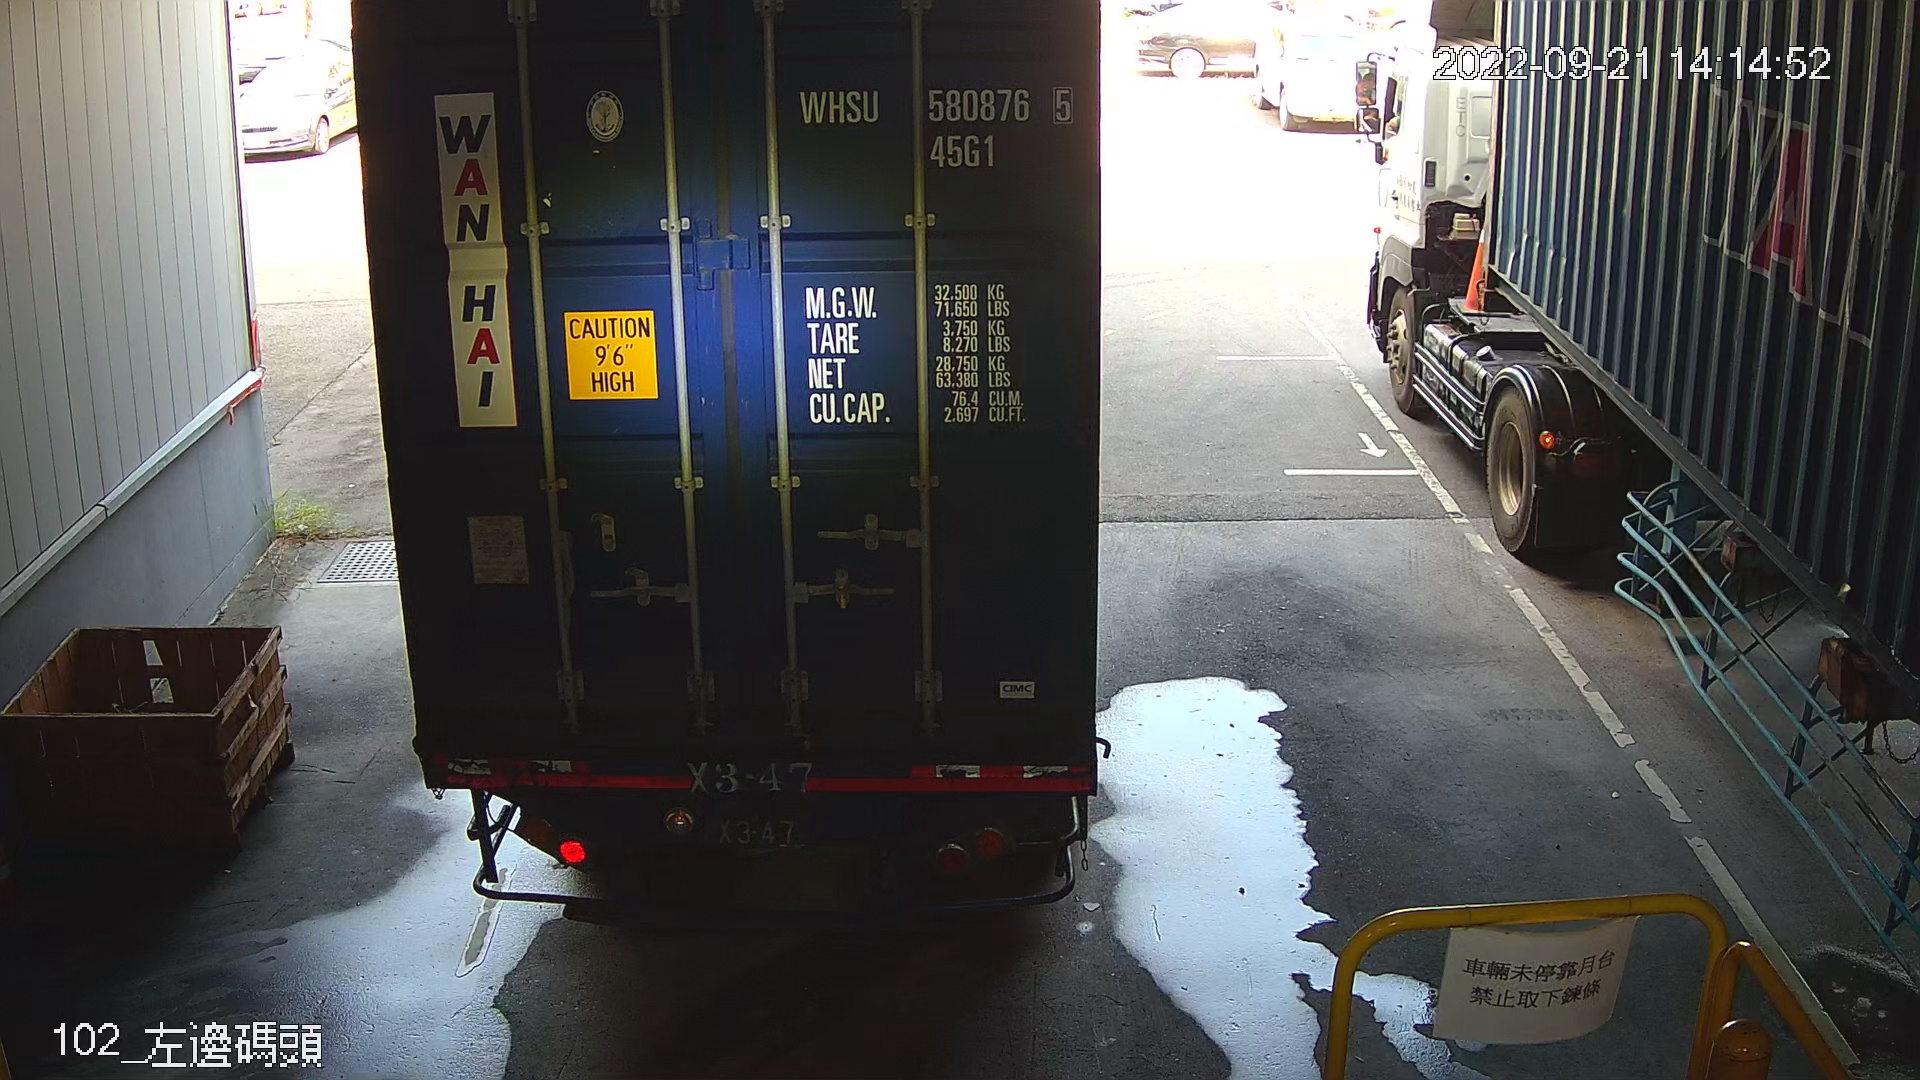container: (787, 76, 1084, 182)
